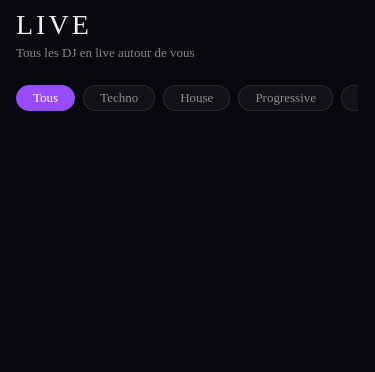
Test: LivesScreen › filtre les lives par genre Techno
Click the text "Techno": x=119, y=98 100,90 -> 138,106
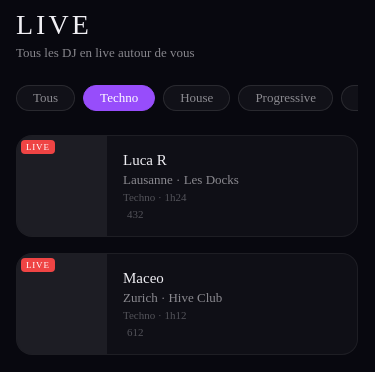
Now the text "Luca R" is shown, box 123,152 -> 167,168
Now the text "Maceo" is shown, box 123,270 -> 164,286
